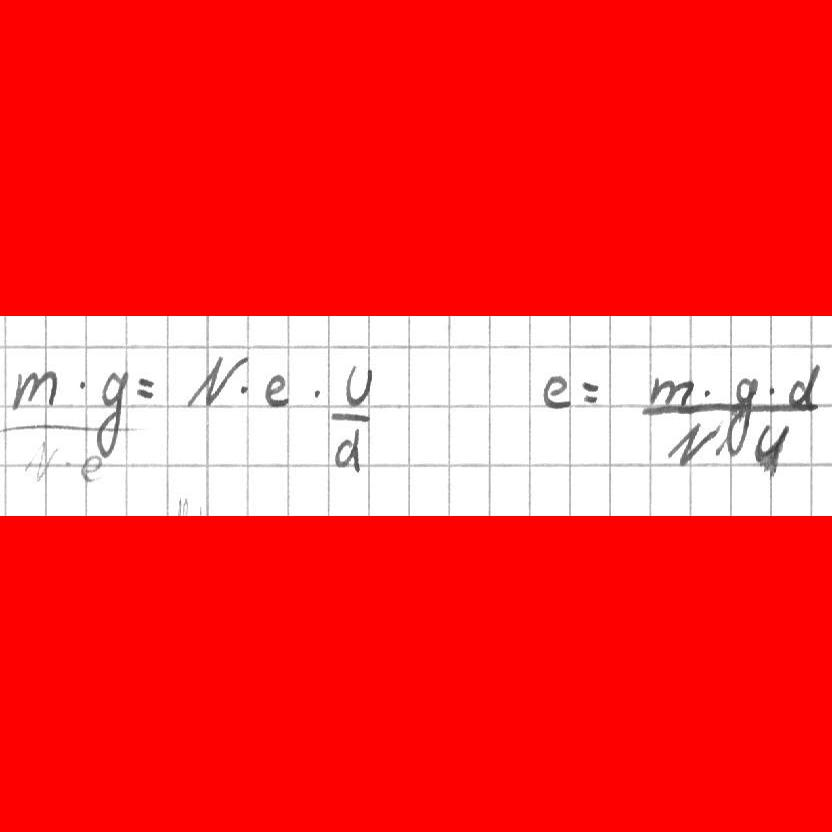Char: (186, 349, 247, 413), (90, 369, 131, 462), (667, 416, 723, 469), (726, 374, 760, 455), (9, 369, 59, 413), (645, 370, 696, 409), (784, 361, 823, 412), (750, 419, 789, 466), (340, 362, 377, 409), (330, 426, 364, 473), (260, 368, 296, 412), (538, 371, 574, 413), (326, 405, 377, 427), (578, 375, 602, 408), (135, 374, 157, 400), (308, 382, 328, 403), (697, 381, 715, 402), (74, 375, 90, 397), (763, 379, 780, 399), (237, 378, 253, 399)
